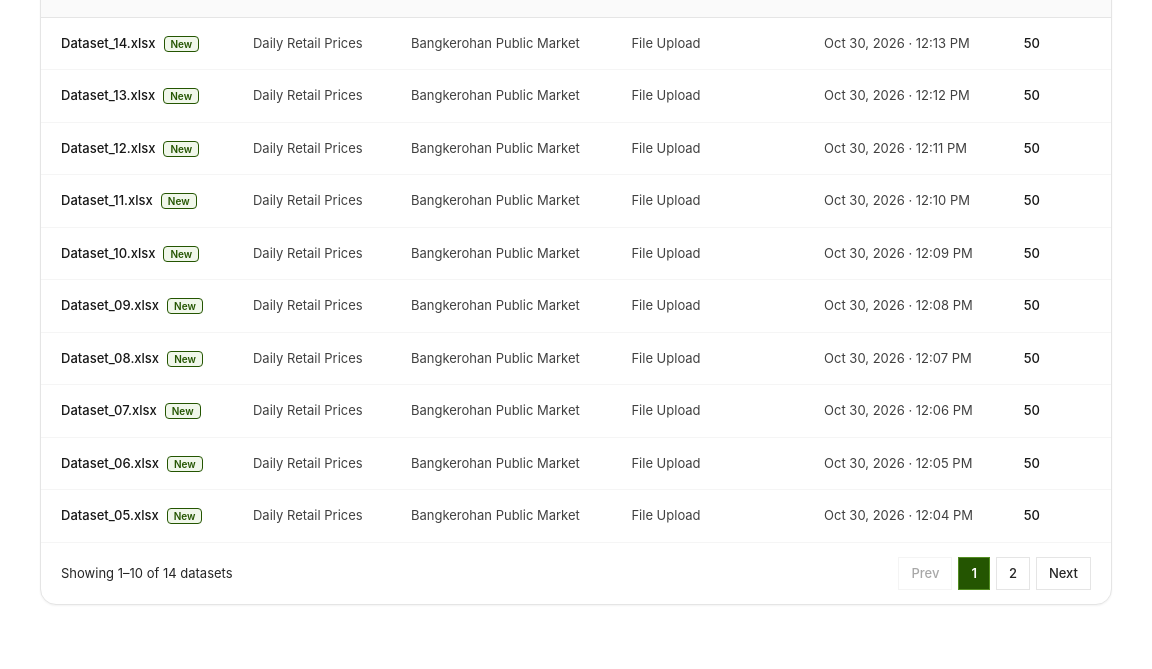
Test: DFTCInput Submit Data Page › paginates Today's Saved Data displaying 10 items per page with Prev/Next controls
(page scrolled)
Expected: the text "Showing 1–10 of 14 datasets" is shown, [61,563,233,584]
What coordinates should you click on to do the following:
click the button "Next"
I would click on:
 (1063, 574)
Its box is [1036,557,1091,590].
(page scrolled)
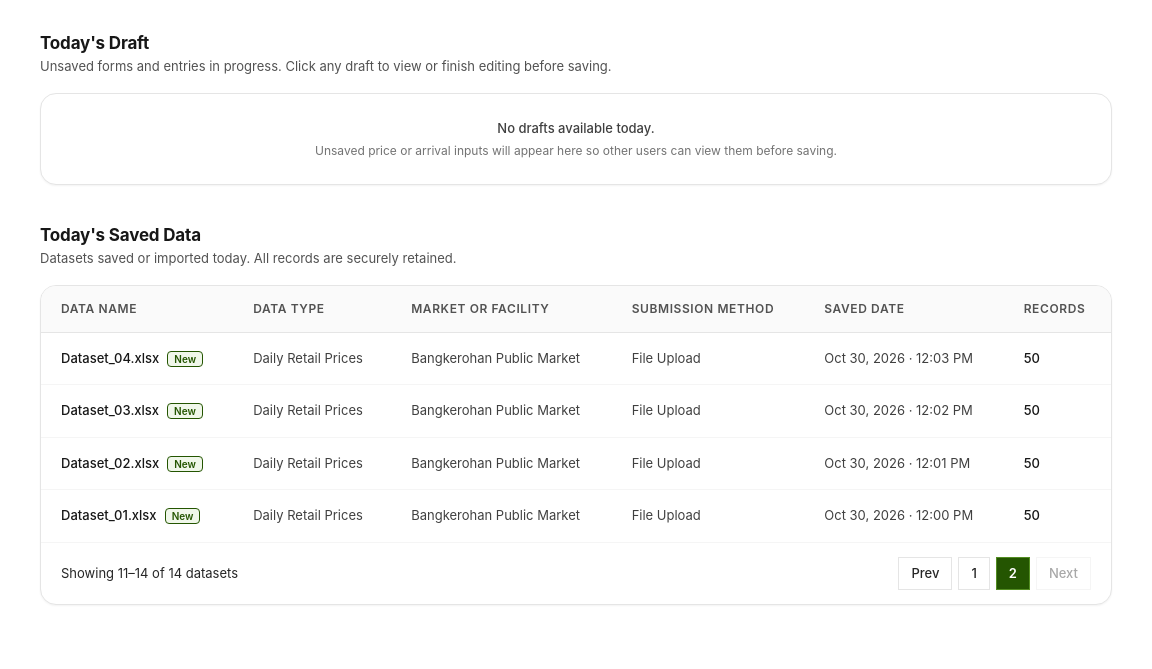
Expected: the text "Showing 11–14 of 14 datasets" is shown, [61,563,238,584]
